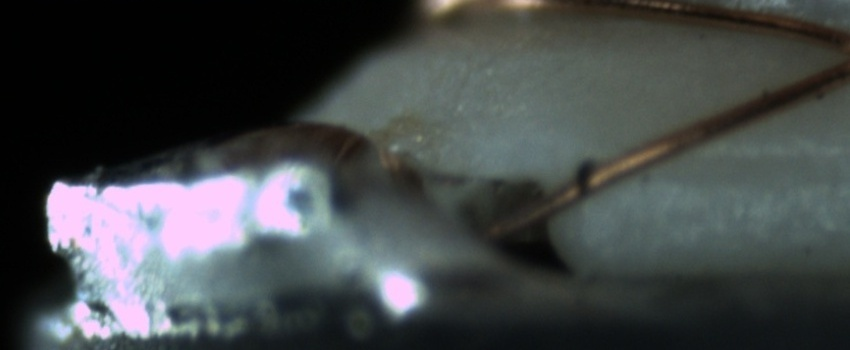DL: (670, 126, 848, 189)
